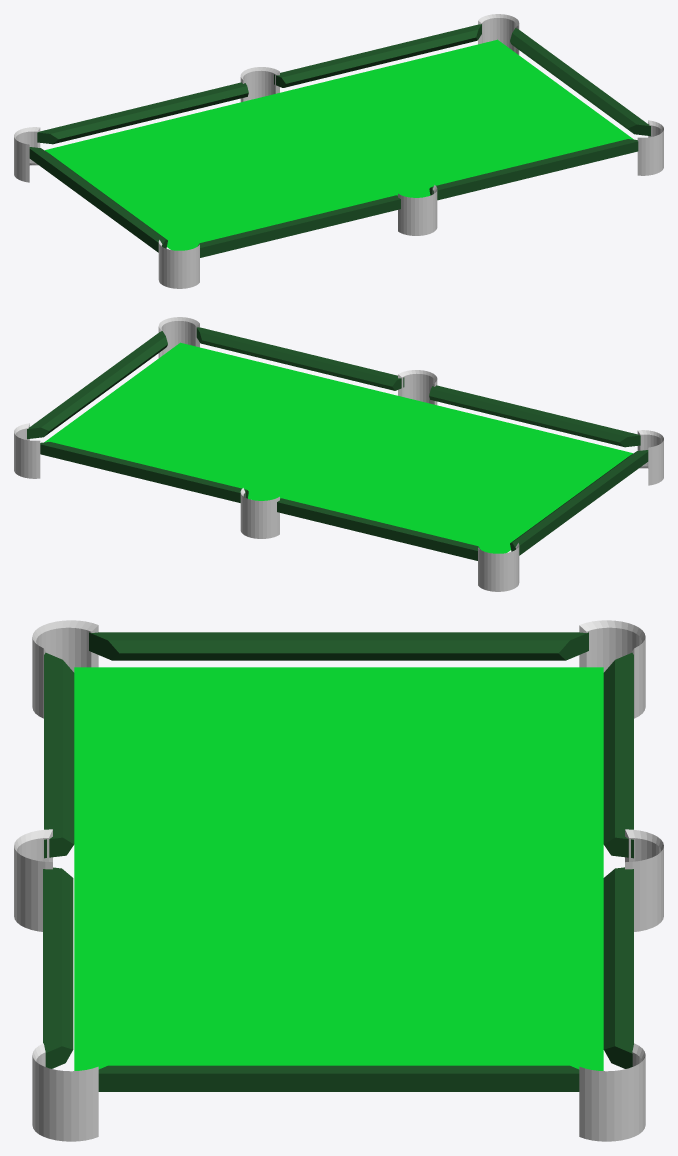
Rendered from pool_table.glb.
The picture shows the model from 3 angles, top to bottom: view 1: azimuth 30°, elevation 25°; view 2: azimuth 150°, elevation 25°; view 3: azimuth 270°, elevation 25°; orthographic projection. The views are drawn at different scales.
Visible parts, largest first — view 1: felt, rail, rail.001, rail.004, rail.005, rail.002, rail.006, wood.005, wood.004, wood.003, wood.001, wood.002 (+1 smaller); view 2: felt, rail.005, rail.004, rail.001, rail, rail.002, rail.006, wood.001, wood, wood.002, wood.003, wood.005 (+1 smaller); view 3: felt, rail.006, rail.002, rail.001, rail.004, rail, rail.005, wood.002, wood.003, wood.001, wood.005, wood (+1 smaller).
Part boxes in pixels (x1,y1,x2,y2): felt: (45, 39, 633, 250); rail: (37, 82, 248, 144); rail.001: (274, 24, 481, 87); rail.004: (429, 139, 638, 200); rail.005: (197, 195, 400, 257); rail.002: (510, 28, 650, 136); rail.006: (29, 147, 167, 252); wood.005: (158, 240, 199, 288); wood.004: (398, 185, 437, 235); wood.003: (637, 120, 663, 175); wood.001: (14, 127, 40, 182); wood.002: (478, 14, 519, 54); felt: (44, 342, 632, 553); rail.005: (429, 385, 640, 447); rail.004: (196, 327, 404, 390); rail.001: (40, 442, 248, 502); rail: (277, 498, 480, 560); rail.002: (27, 331, 167, 439); rail.006: (510, 450, 648, 555); wood.001: (478, 543, 519, 591); wood: (240, 488, 279, 538); wood.002: (14, 423, 40, 478); wood.003: (158, 317, 199, 357); wood.005: (637, 430, 663, 485); felt: (74, 667, 603, 1070); rail.006: (89, 632, 588, 660); rail.002: (98, 1065, 579, 1091); rail.001: (603, 867, 633, 1068); rail.004: (43, 867, 73, 1068); rail: (603, 652, 633, 858); rail.005: (44, 652, 74, 858); wood.002: (579, 1043, 645, 1141); wood.003: (32, 1043, 98, 1141); wood.001: (579, 620, 645, 718); wood.005: (32, 620, 98, 718); wood: (625, 829, 663, 931).
Size of the model in its own units: 14.11 by 1.03 by 8.59.
